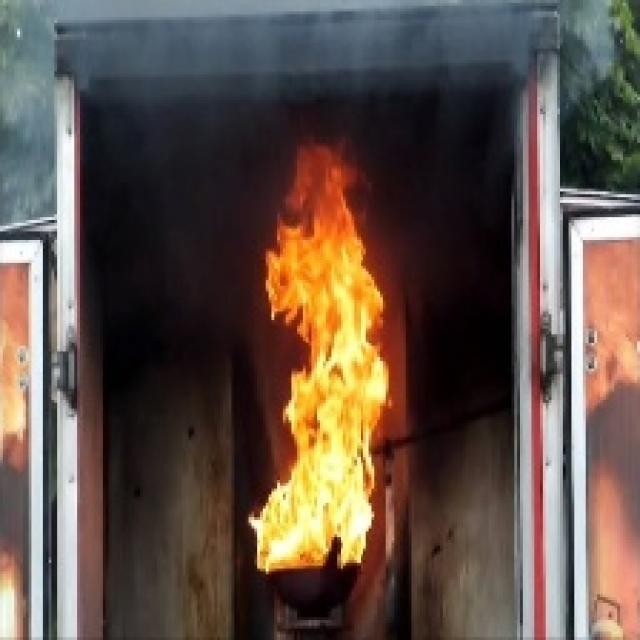Fire: (248, 152, 393, 567)
